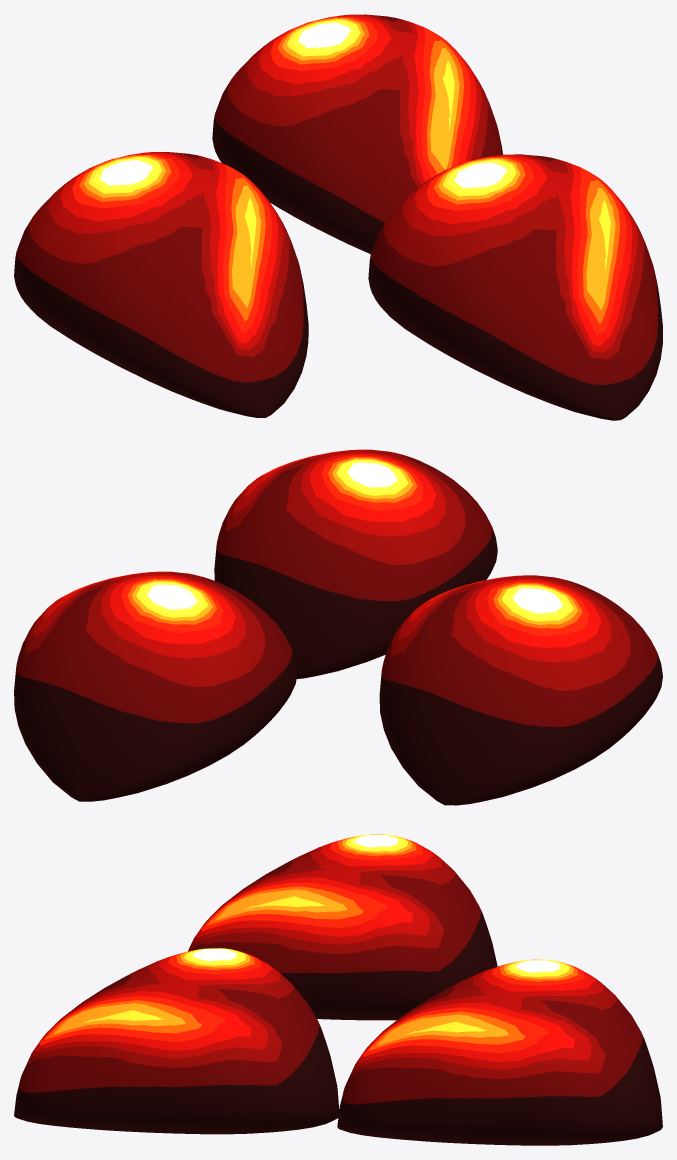
File: drops_283.glb
3 renders of one model, top to bottom at view 1: azimuth 30°, elevation 25°; view 2: azimuth 150°, elevation 25°; view 3: azimuth 270°, elevation 25°, orthographic. The views are drawn at different scales.
Parts seen in each view (by area): view 1: drops_283; view 2: drops_283; view 3: drops_283.
Part boxes in pixels (left/top/right/bottom): drops_283: left=14, top=14, right=662, bottom=420; drops_283: left=14, top=449, right=662, bottom=805; drops_283: left=14, top=834, right=662, bottom=1145.
Size of the model in its own units: 20.01 by 6.26 by 24.09.
